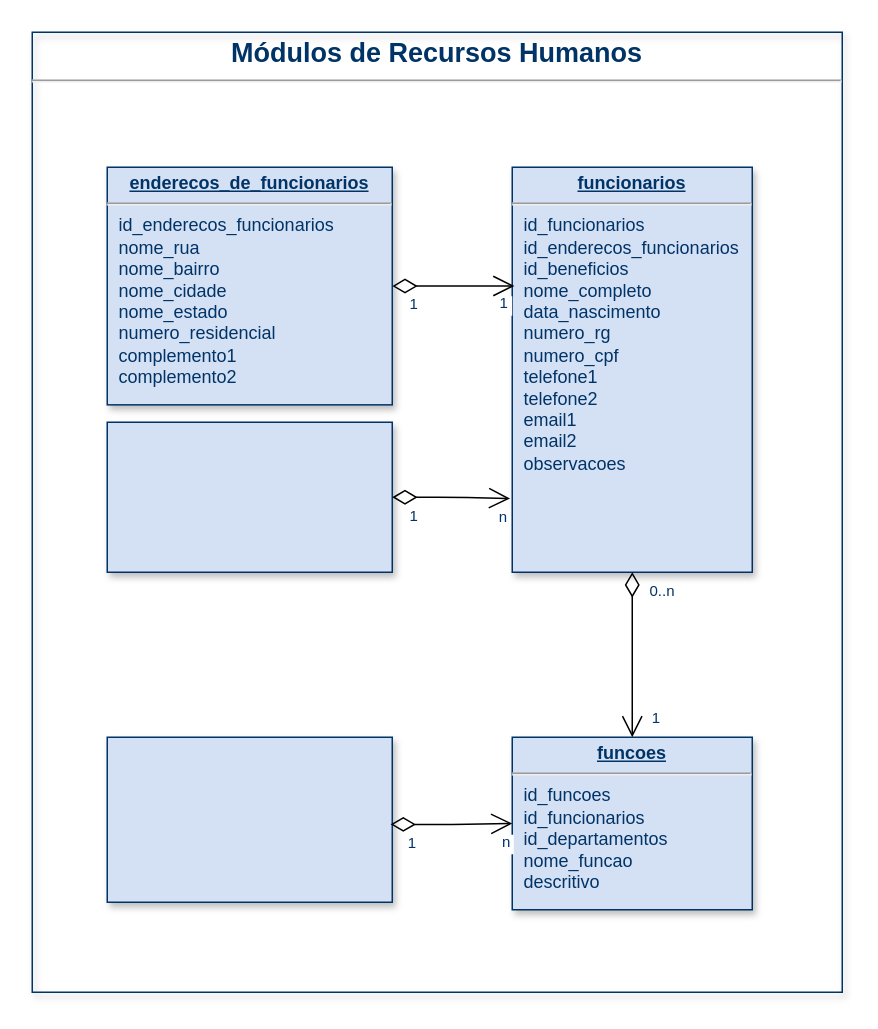
The diagram is 878 pixels wide and 1029 high, and some of its shapes have lost their labels. The centre of each missing label's shape, as x and y in pixels:
"beneficios id_beneficios nome_beneficio valor_beneficio descritivo_beneficio" goes at point 250,499.
"departamentos id_departamentos nome_departamento descritivo_departamento" goes at point 250,821.
